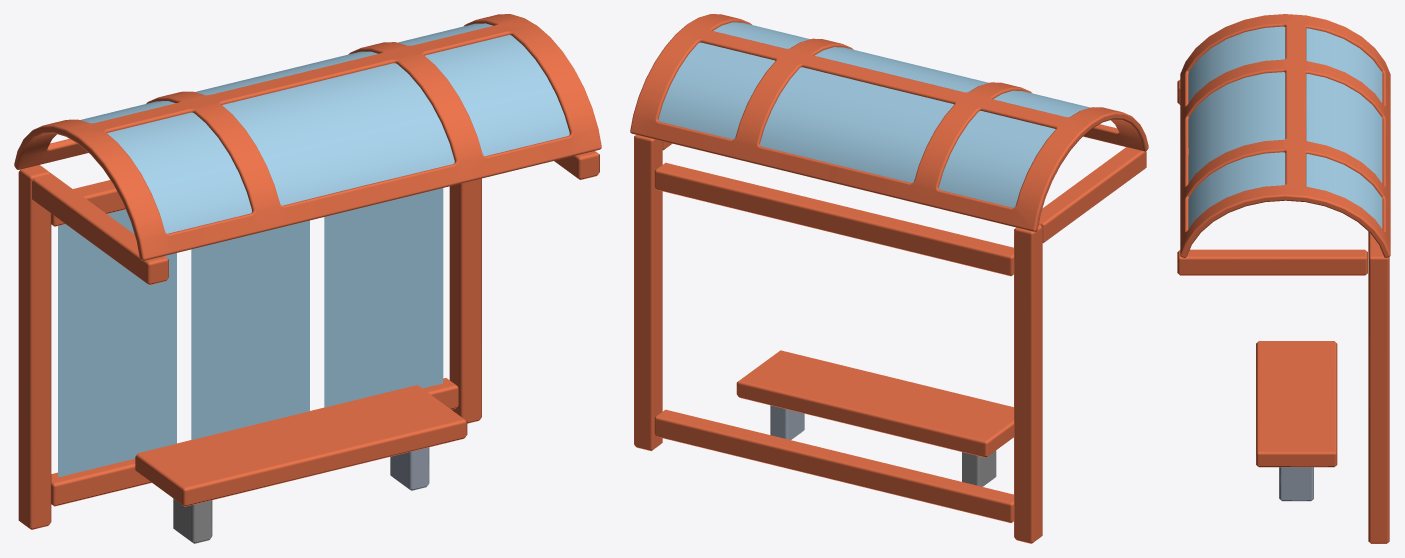
Rendered from bus-stop-01.glb.
The picture shows the model from 3 angles, left to right: view 1: azimuth 30°, elevation 25°; view 2: azimuth 150°, elevation 25°; view 3: azimuth 270°, elevation 25°; orthographic projection. The views are drawn at different scales.
Visible parts, largest first — view 1: Bus Stop; view 2: Bus Stop; view 3: Bus Stop.
Boxes of the visible parts, box(x1,y1,x2,y2) form: Bus Stop: box(14, 14, 601, 543); Bus Stop: box(630, 14, 1148, 543); Bus Stop: box(1177, 14, 1390, 543).
Size of the model in its own units: 3.02 by 2.72 by 1.5.
Materials: 1 (1 with a texture image).
